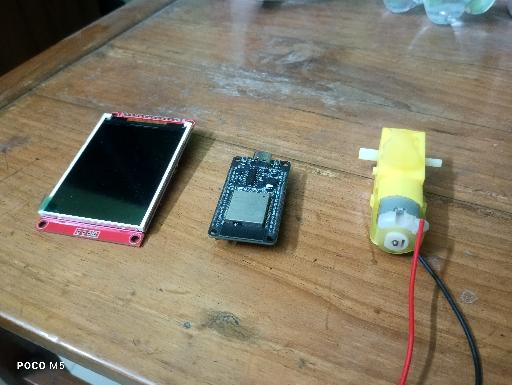Display: (33, 111, 195, 247)
Esp32: (207, 150, 291, 245)
Motor: (358, 127, 442, 255)
